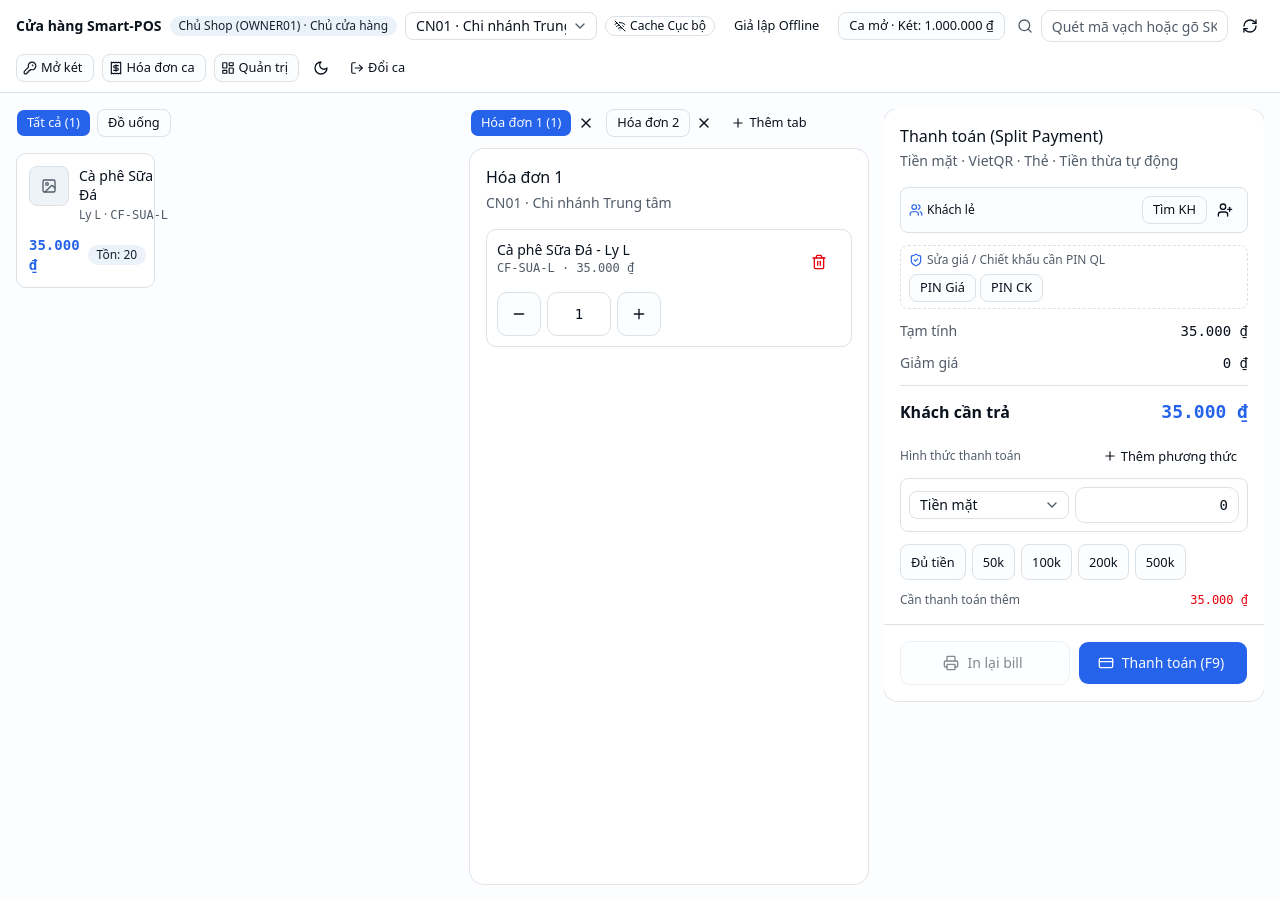
Scenario: UI/UX Enhancements & Regressions Suite › protects dirty POS cart tabs with ConfirmDialog and auto-fills remaining balance in Split Payment
Earlier steps of the test are not shown.
Expected: the button "Hóa đơn 1 (1)" is shown, [470,109,572,137]
Click the button "Đủ tiền" at x=933, y=562, box [900,544,966,580]
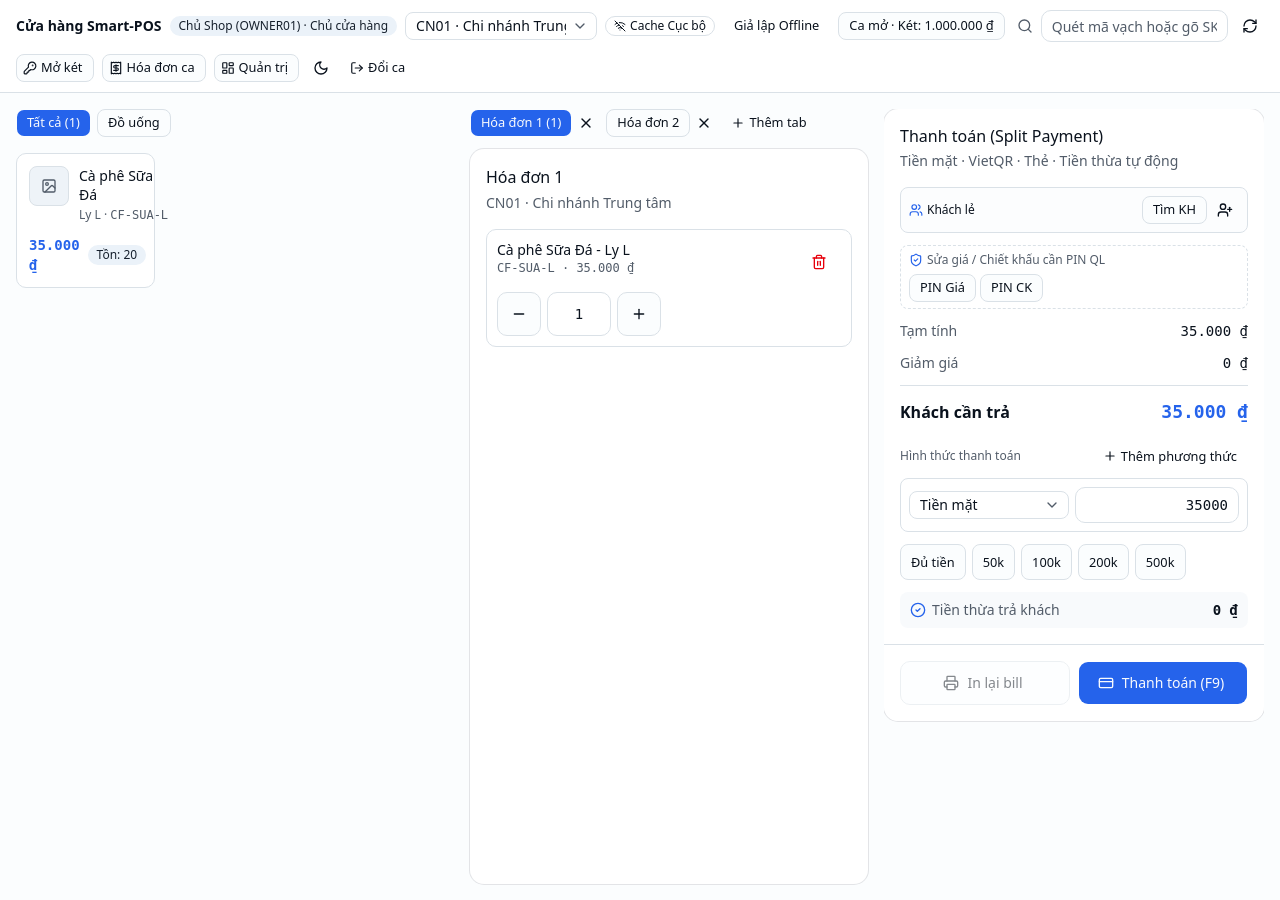
Result: the field named "Số tiền thanh toán 1" holds "35000"
Replace the text in the field named "Số tiền thanh toán 1" with "15000" at x=1157, y=505, box [1075,487,1239,523]
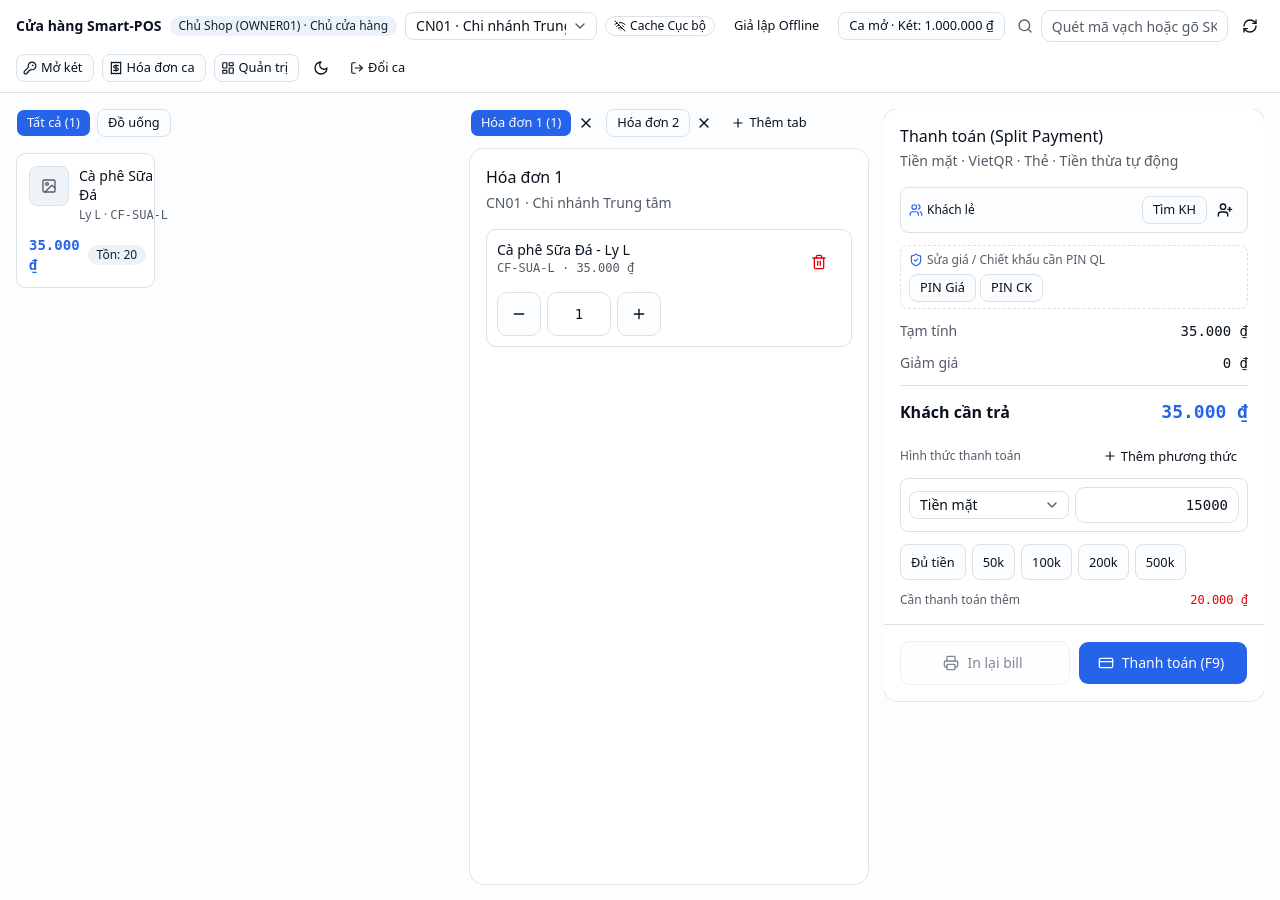
Click the button "Thêm phương thức" at x=1172, y=456, box [1096,442,1248,470]
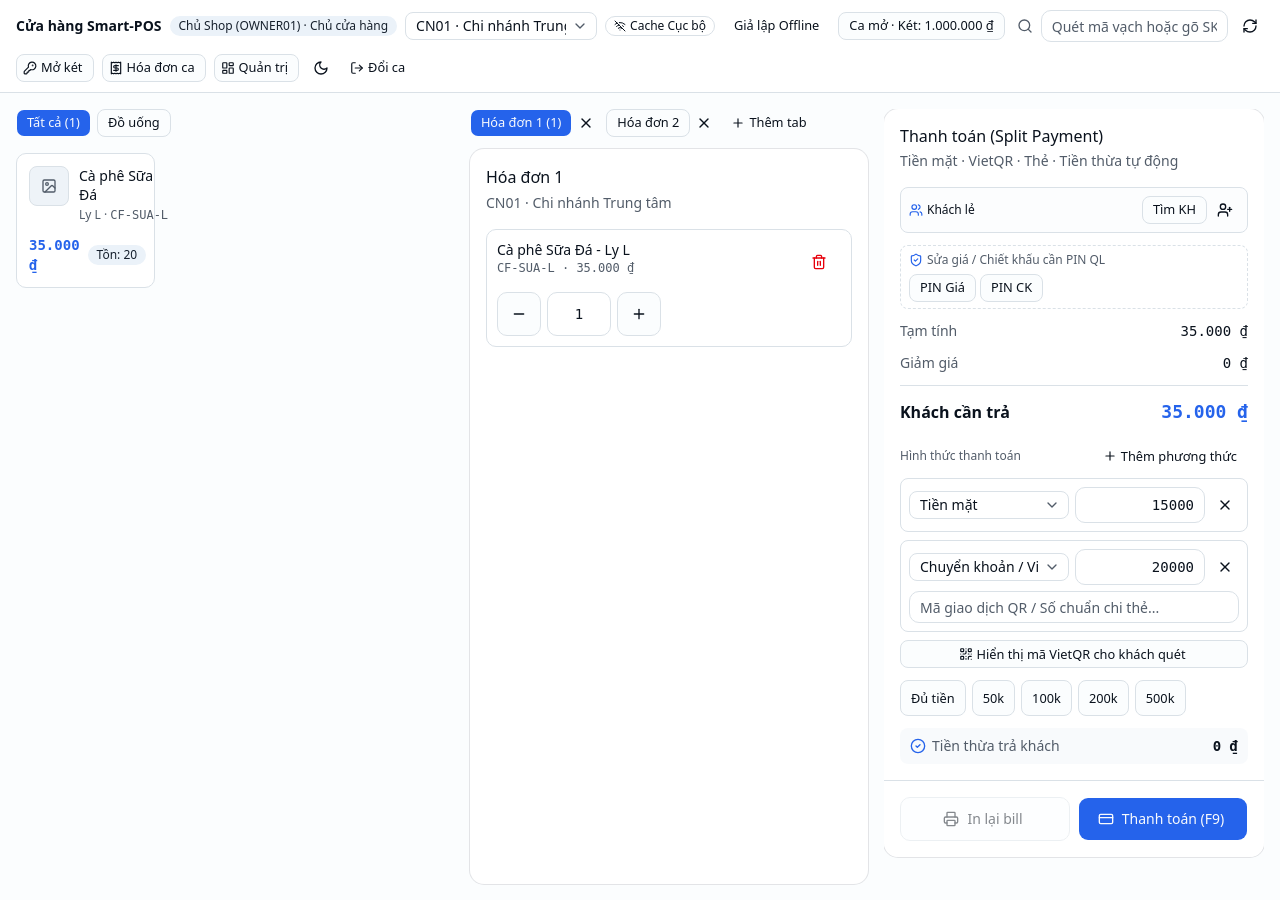
Result: the field named "Số tiền thanh toán 2" holds "20000" at [1075,549,1205,585]
Click the button "Hóa đơn 2" at x=648, y=123, box [606,109,690,137]
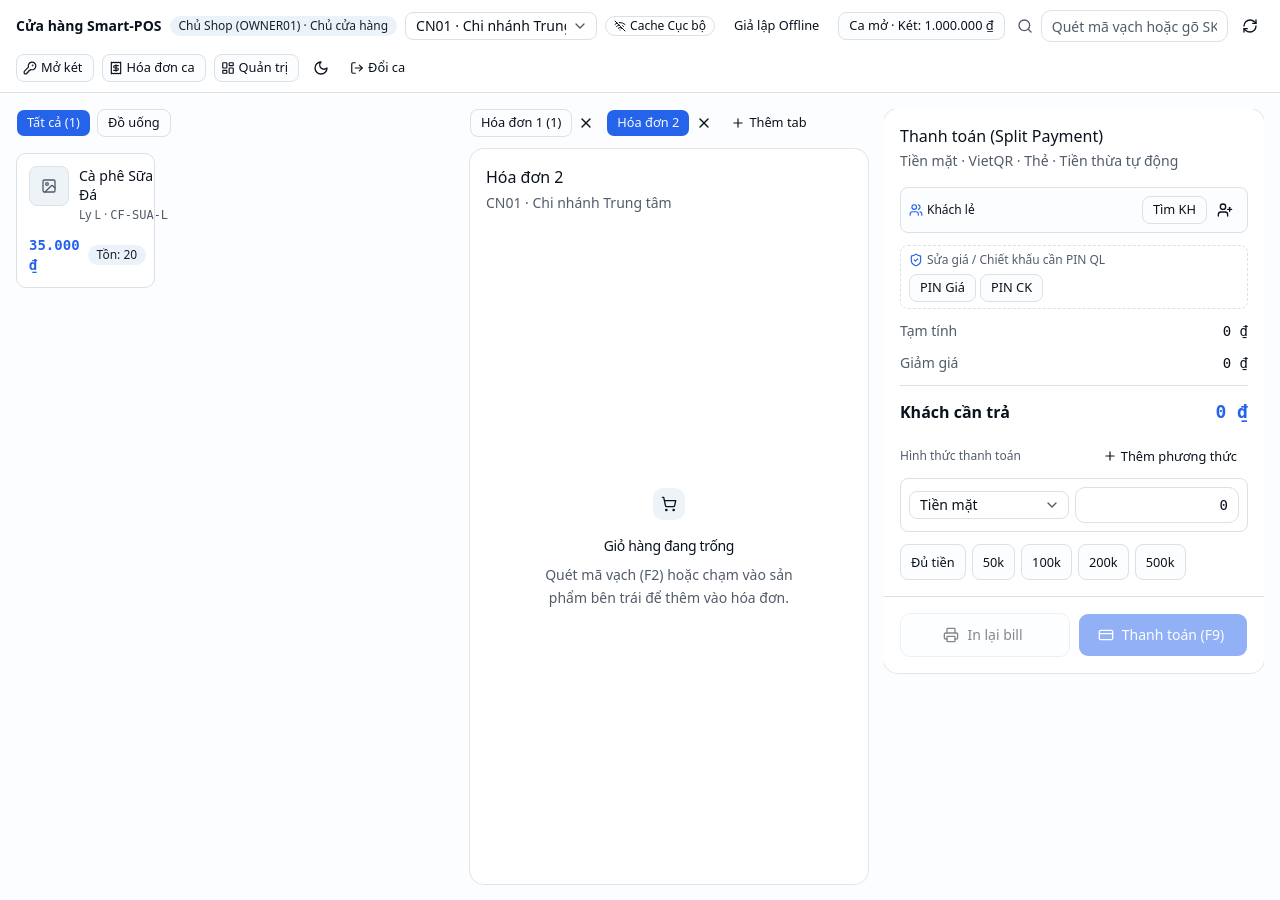
Click the button named "Đóng Hóa đơn 1" at x=586, y=123, box [572,109,600,137]
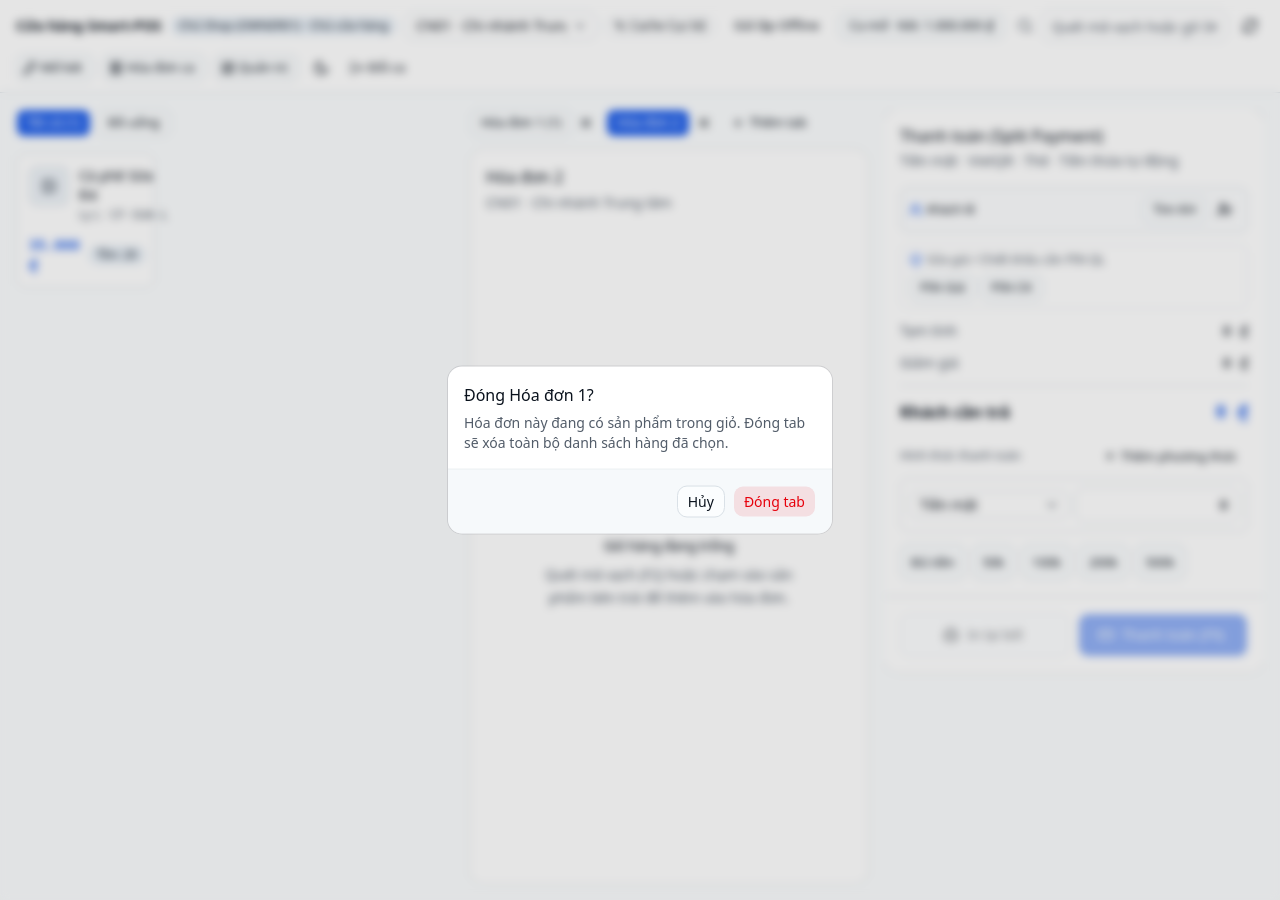
Result: the button "Hóa đơn 1 (1)" is shown at [470,109,572,137]
Result: the heading "Đóng Hóa đơn 1?" is shown at [464,382,594,406]
Click the button "Đóng tab" at x=774, y=502, box [733,486,816,518]
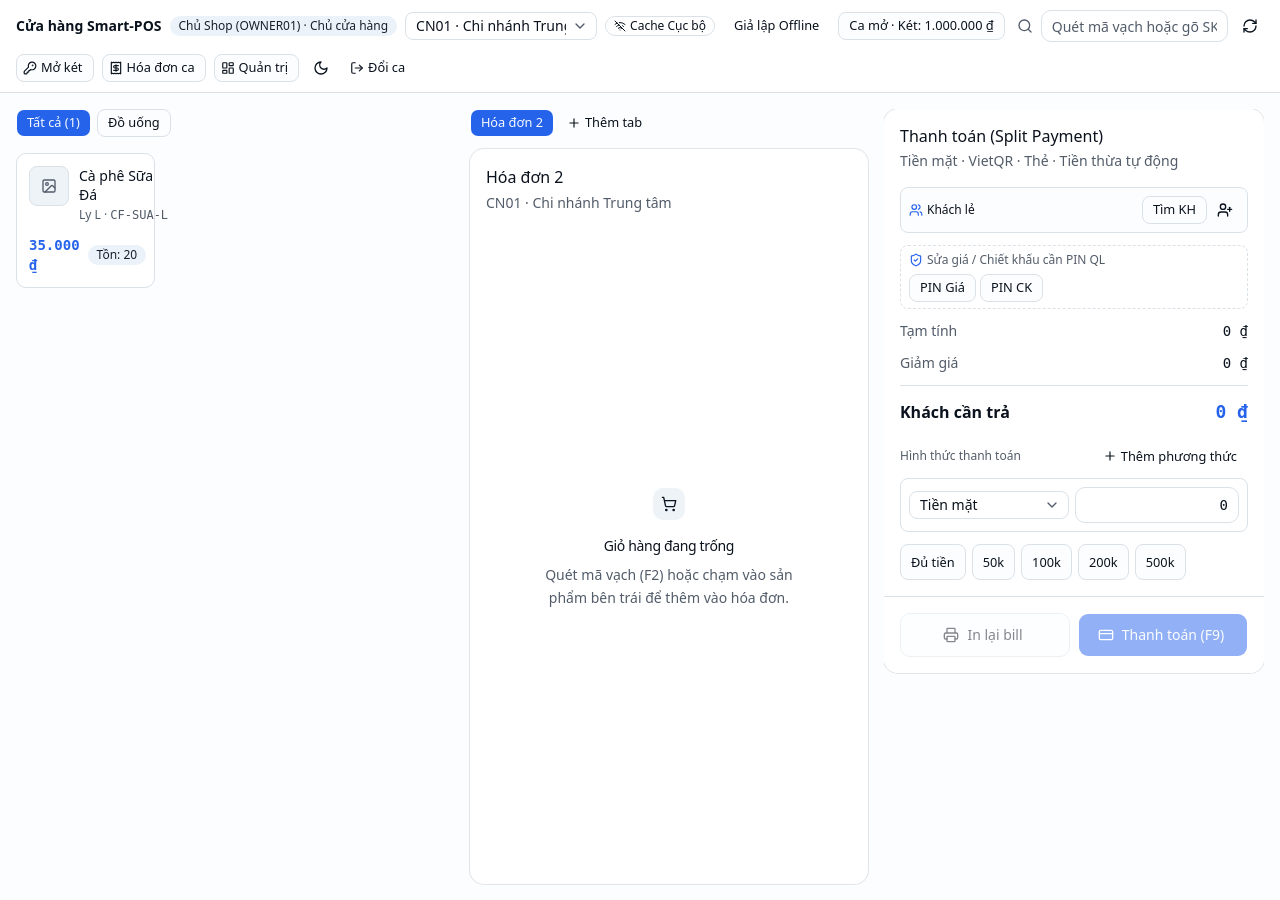
Result: the button "Hóa đơn 1 (1)" is gone
